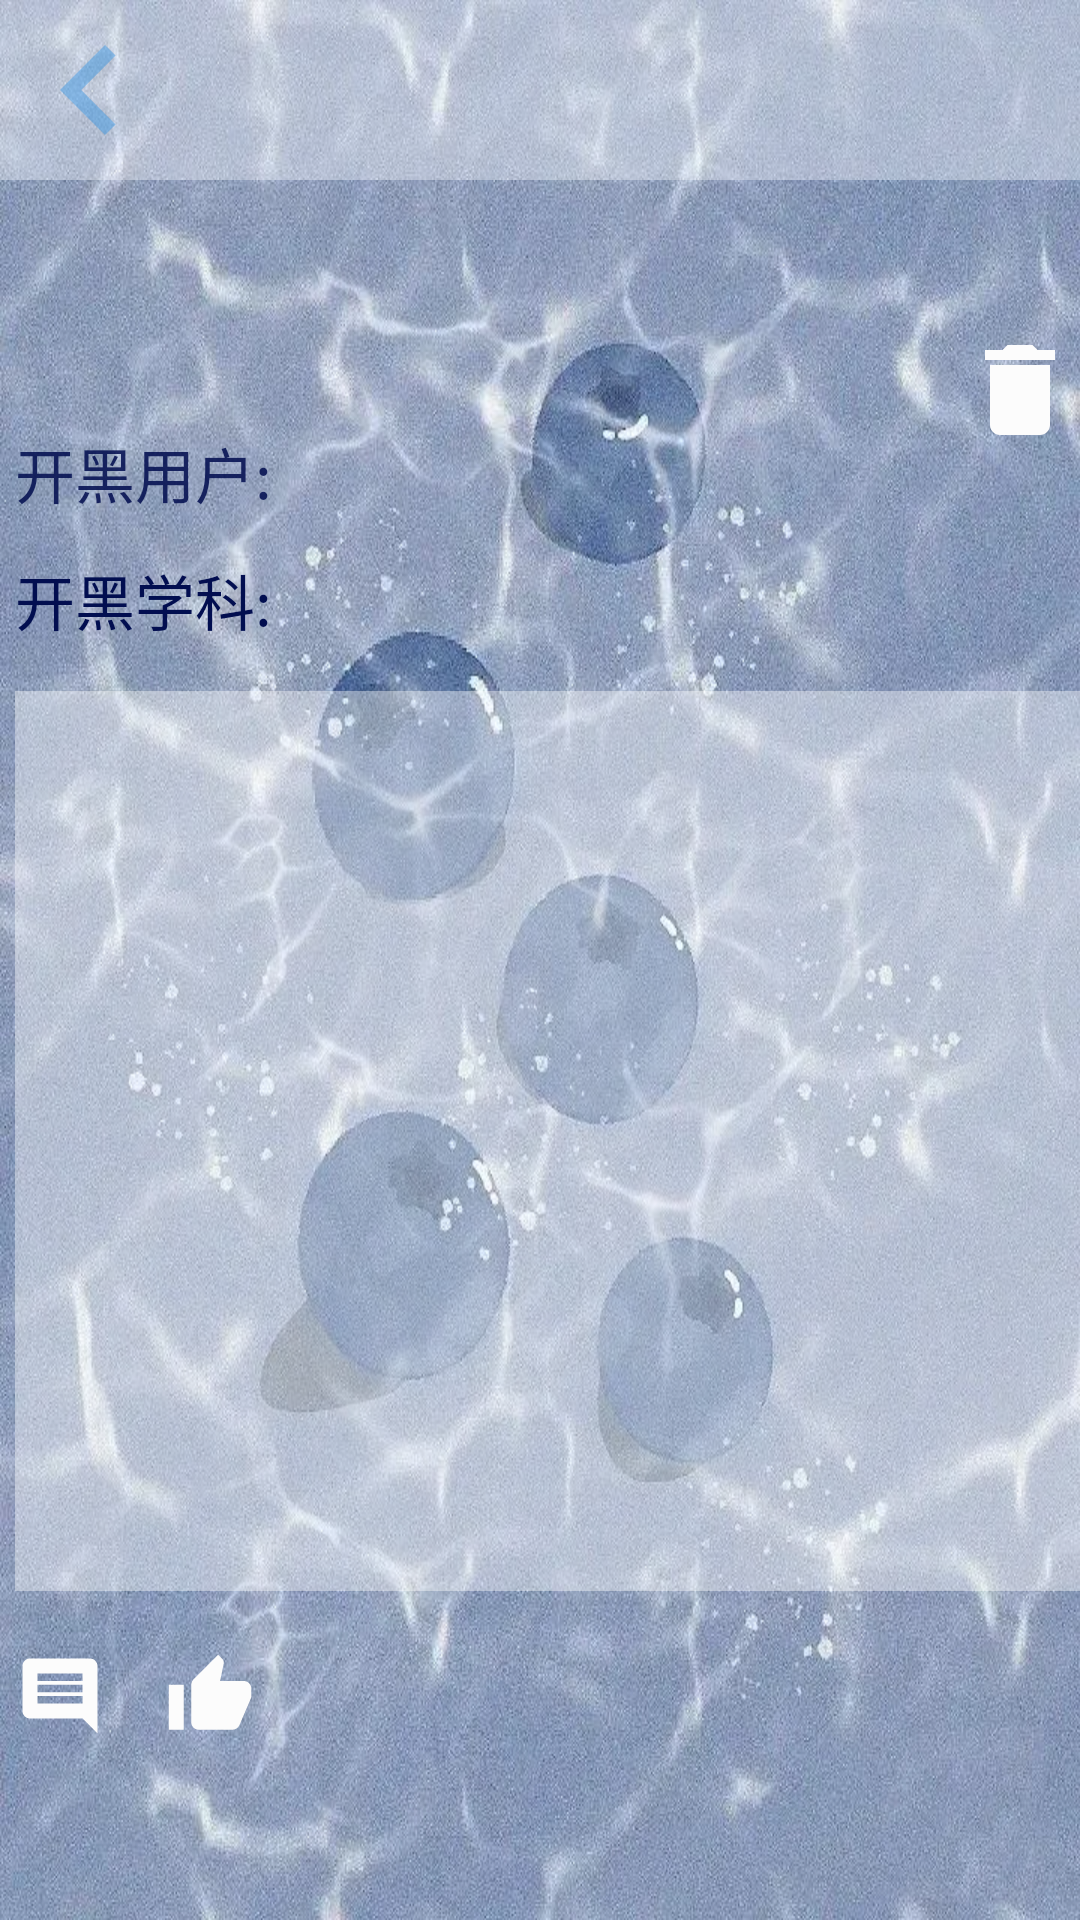

Point at icon controls on the screen. Image size 1080 x 1920, points as (x,y).
comment: (60,1696)
delete: (1020,390)
thumb up: (210,1696)
